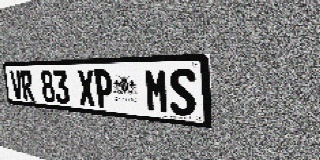3: (53, 70, 70, 104)
8: (40, 70, 56, 103)
M: (144, 69, 170, 114)
P: (93, 69, 114, 109)
R: (20, 70, 35, 101)
S: (169, 68, 197, 117)
V: (10, 70, 24, 100)
X: (77, 70, 96, 107)
